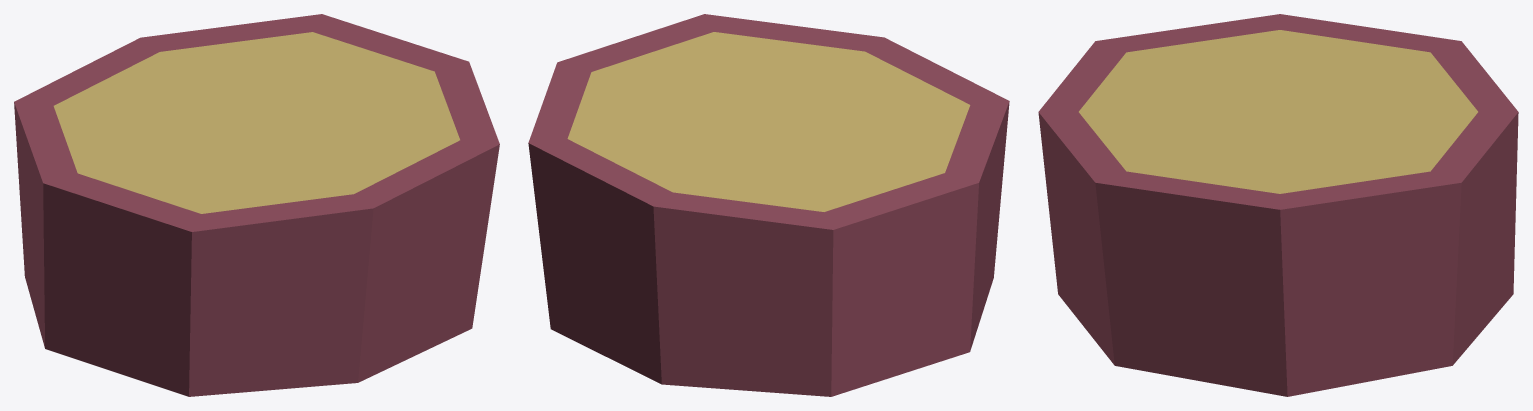
Rendered from sweetPotatoSlice01.fbx.
3 views of the same model, side by side, from view 1: azimuth 30°, elevation 25°; view 2: azimuth 150°, elevation 25°; view 3: azimuth 270°, elevation 25° (orthographic). The views are drawn at different scales.
Visible parts, largest first — view 1: sweetPotatoSlice01; view 2: sweetPotatoSlice01; view 3: sweetPotatoSlice01.
Boxes of the visible parts, box(x1,y1,x2,y2) form: sweetPotatoSlice01: box(14, 14, 499, 396); sweetPotatoSlice01: box(528, 14, 1009, 396); sweetPotatoSlice01: box(1038, 14, 1518, 396).
Bounding box in the file's own units: 5.66 × 2.42 × 5.36.
Materials: 1 (1 with a texture image).
